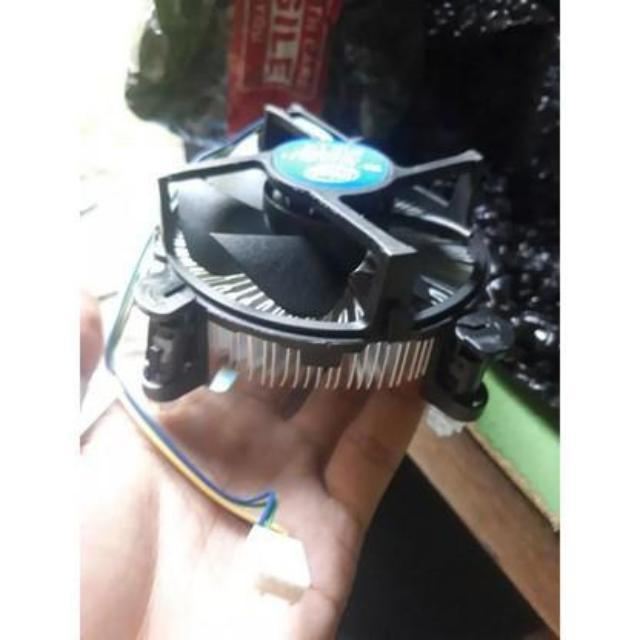CPU_Fan: (129, 93, 500, 441)
